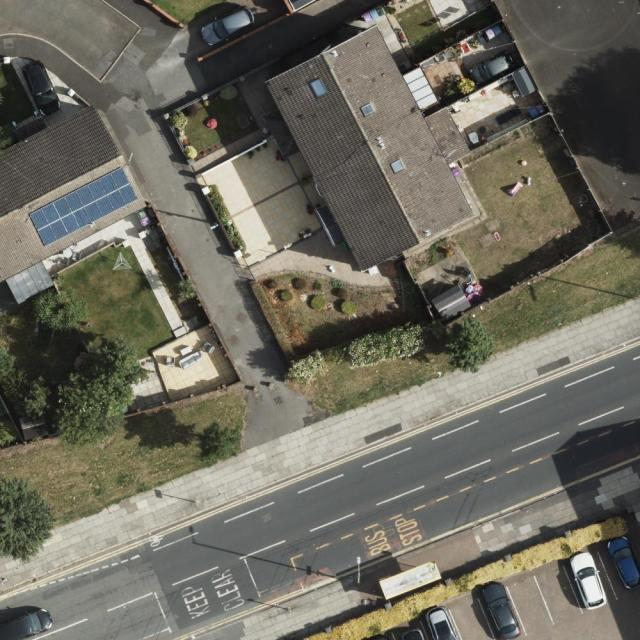roof: (265, 23, 474, 272), (0, 102, 151, 284)
skylight: (307, 76, 328, 100), (388, 156, 407, 176), (360, 103, 376, 117)
solar: (27, 167, 138, 249)
